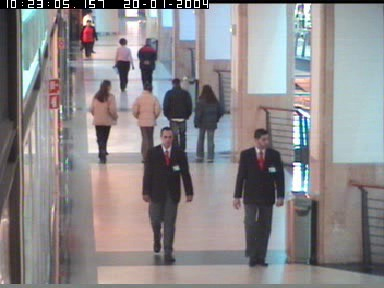person: (231, 128, 285, 267), (142, 126, 194, 261), (89, 80, 118, 164), (163, 77, 192, 160), (195, 85, 225, 161), (132, 83, 159, 163), (111, 36, 132, 91), (137, 37, 157, 91), (79, 9, 98, 53), (79, 19, 97, 57)
